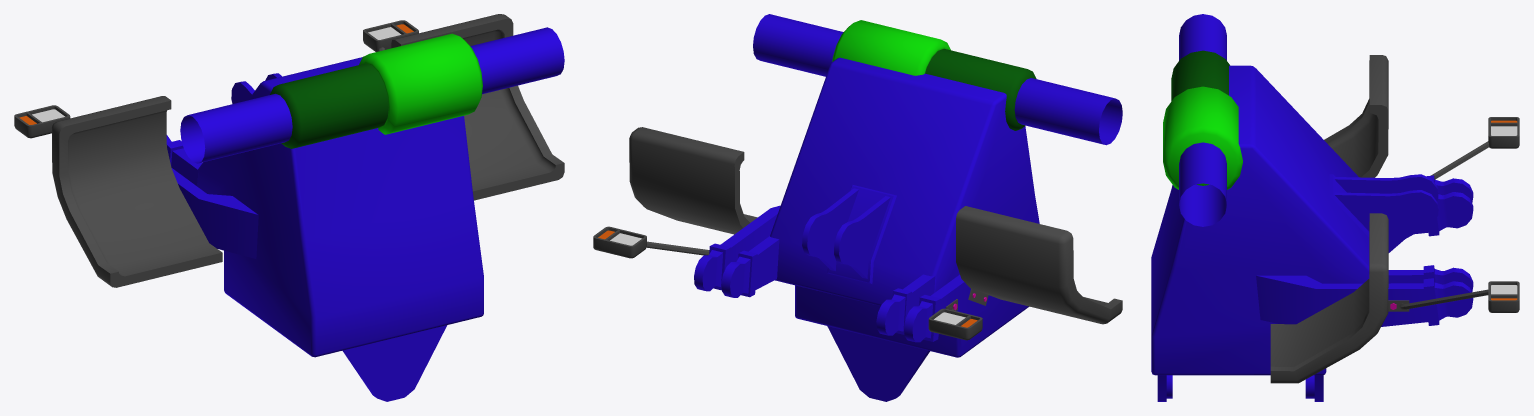
The model's file is WheelLoader_Front_01.fbx.
3 views of the same model, side by side, from view 1: azimuth 30°, elevation 25°; view 2: azimuth 150°, elevation 25°; view 3: azimuth 270°, elevation 25° (orthographic). The views are drawn at different scales.
Parts seen in each view (by area): view 1: WheelLoader_Front_01; view 2: WheelLoader_Front_01; view 3: WheelLoader_Front_01.
Boxes of the visible parts, x1=… form: WheelLoader_Front_01: x1=14, y1=14, x2=564, y2=401; WheelLoader_Front_01: x1=593, y1=14, x2=1122, y2=401; WheelLoader_Front_01: x1=1151, y1=14, x2=1519, y2=401.
Bounding box in the file's own units: 2.53 × 1.73 × 1.84.
